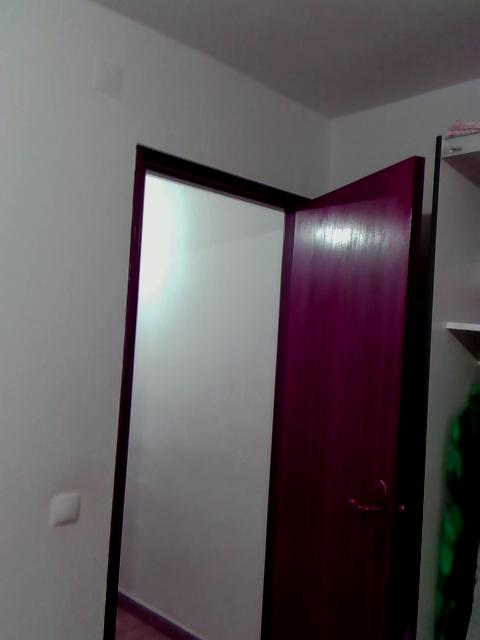open_door: (101, 138, 328, 639)
